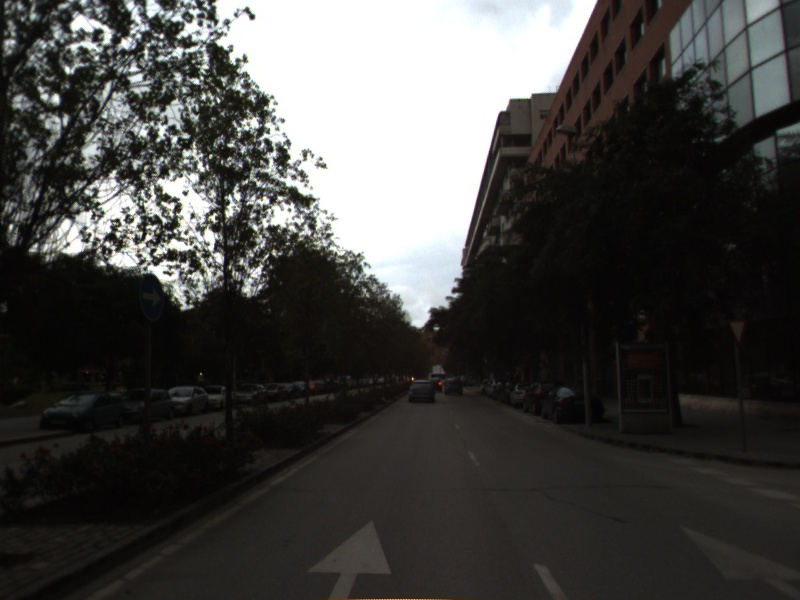STRAIGHT: (674, 520, 800, 597), (304, 516, 395, 600)
